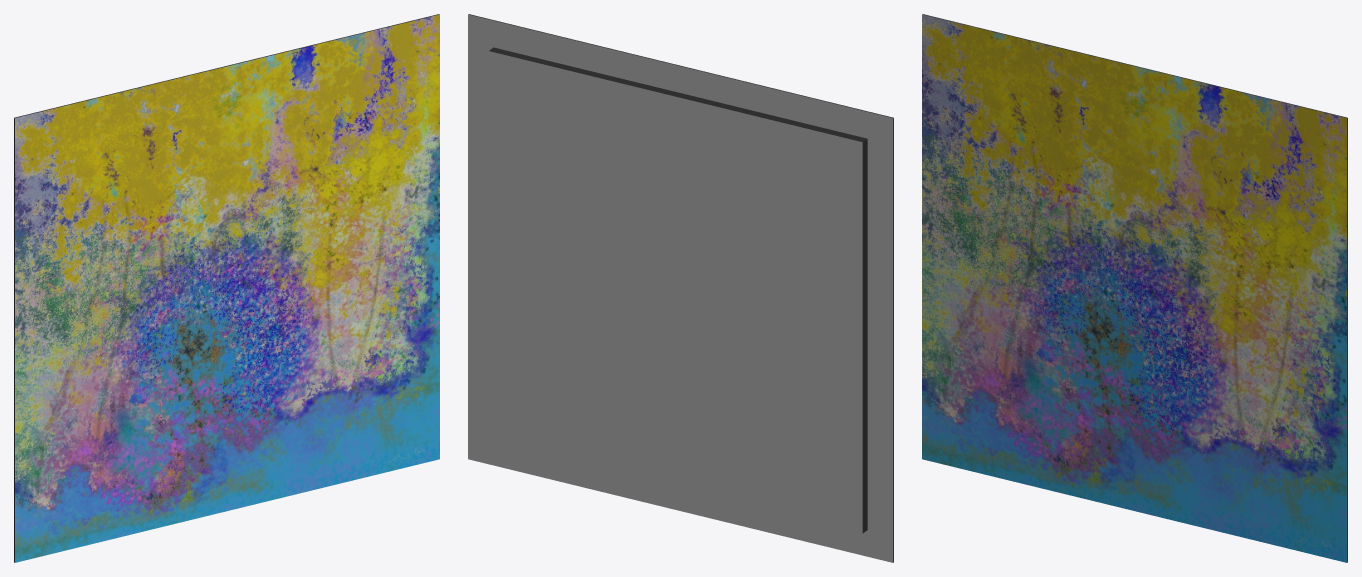
The model's file is va192_grand_dibond.glb.
3 views of the same model, side by side, from view 1: azimuth 30°, elevation 25°; view 2: azimuth 150°, elevation 25°; view 3: azimuth 330°, elevation 25° (orthographic).
Visible parts, largest first — view 1: va192_grand_dibond; view 2: va192_grand_dibond; view 3: va192_grand_dibond.
Boxes of the visible parts, x1,y1,x2,y2 form: va192_grand_dibond: (14,14,439,562); va192_grand_dibond: (468,14,893,562); va192_grand_dibond: (922,14,1347,562).
Size of the model in its own units: 1 by 1 by 0.023.
Materials: 4 (1 with a texture image).
